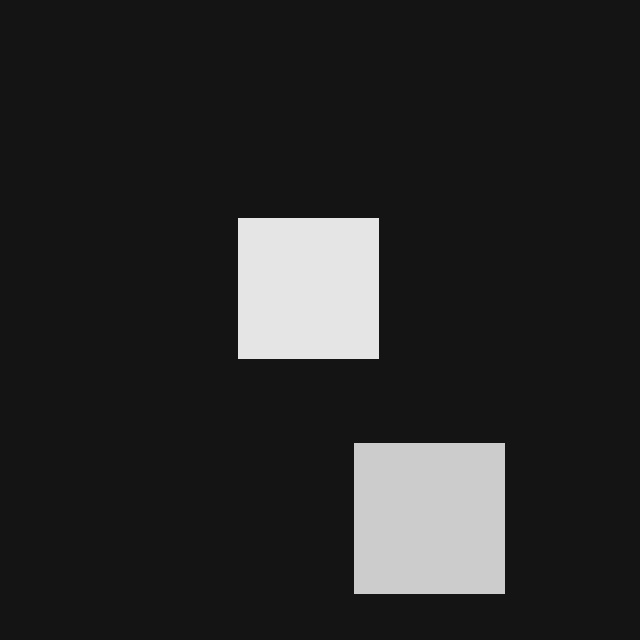square: (354, 443, 504, 593), (238, 218, 378, 358)
